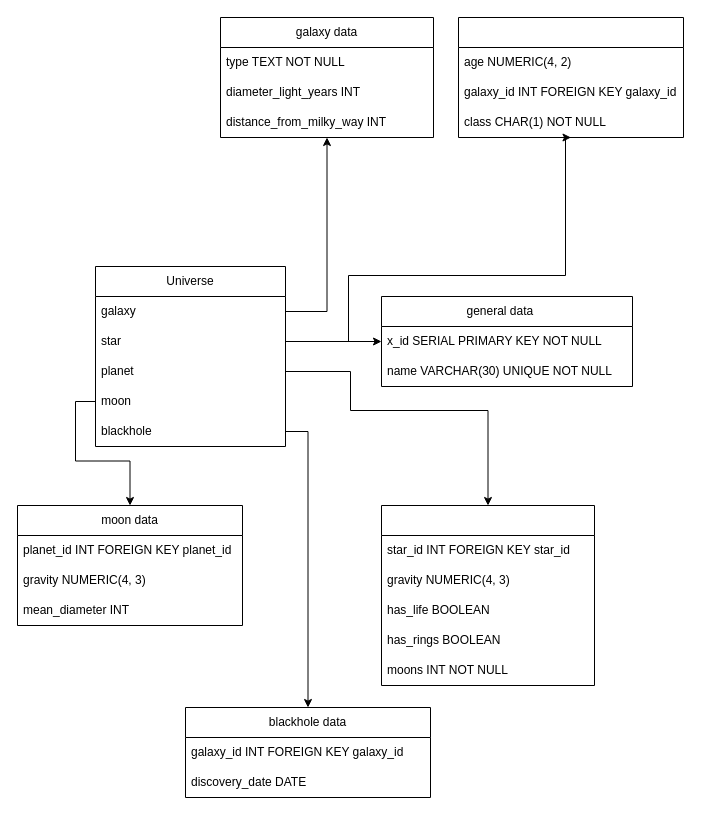
This 701x815 diagram has some shape labels left out. Here are the shapes that lost their labels. From the top down, the box of each, then its label:
(458, 16, 684, 138): star data
(380, 504, 594, 686): planet data
